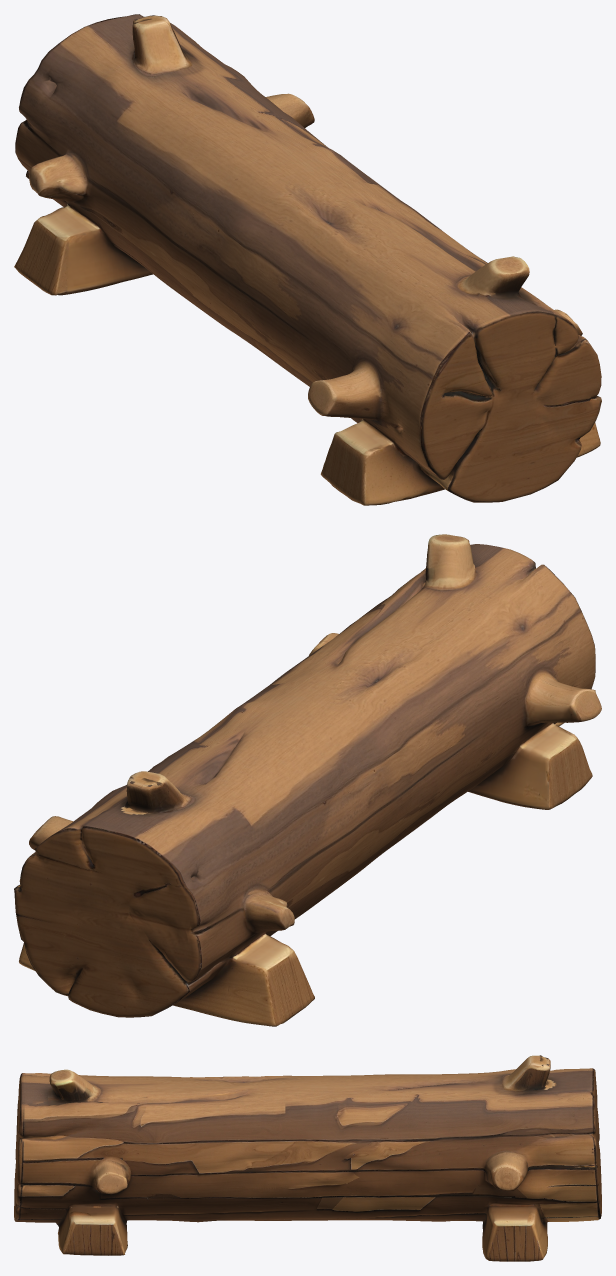
File: SitzBank.fbx
3 renders of one model, top to bottom at view 1: azimuth 30°, elevation 25°; view 2: azimuth 150°, elevation 25°; view 3: azimuth 270°, elevation 25°, orthographic. The views are drawn at different scales.
Visible parts, largest first — view 1: tripo_node_f7e503cf; view 2: tripo_node_f7e503cf; view 3: tripo_node_f7e503cf.
Part boxes in pixels (x1,y1,x2,y2): tripo_node_f7e503cf: (14,14,601,505); tripo_node_f7e503cf: (14,534,601,1026); tripo_node_f7e503cf: (14,1055,601,1261).
Bounding box in the file's own units: 0.3958 × 0.3051 × 0.9995.
